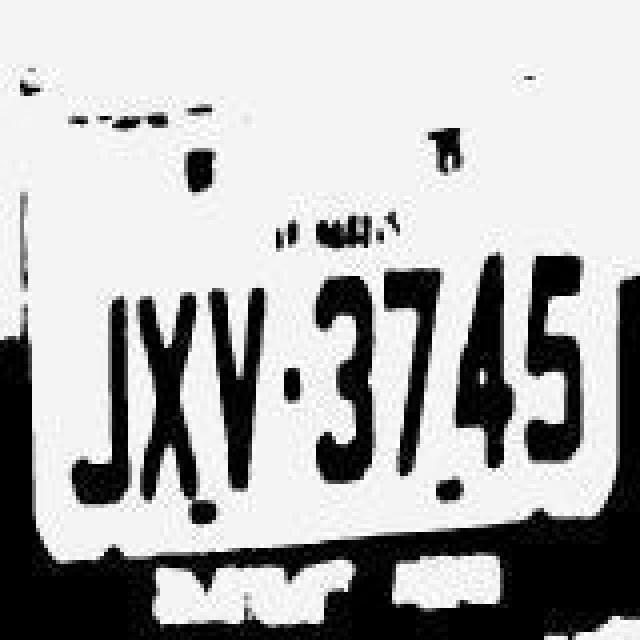3: (306, 274, 382, 486)
4: (454, 242, 522, 478)
5: (516, 246, 588, 474)
7: (378, 268, 446, 484)
J: (60, 284, 132, 516)
V: (202, 268, 270, 500)
X: (134, 282, 202, 502)
